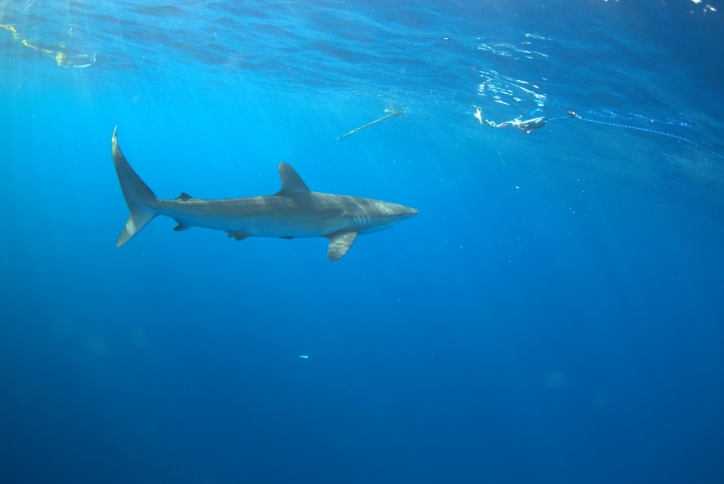Sedoso: (71, 119, 451, 279)
